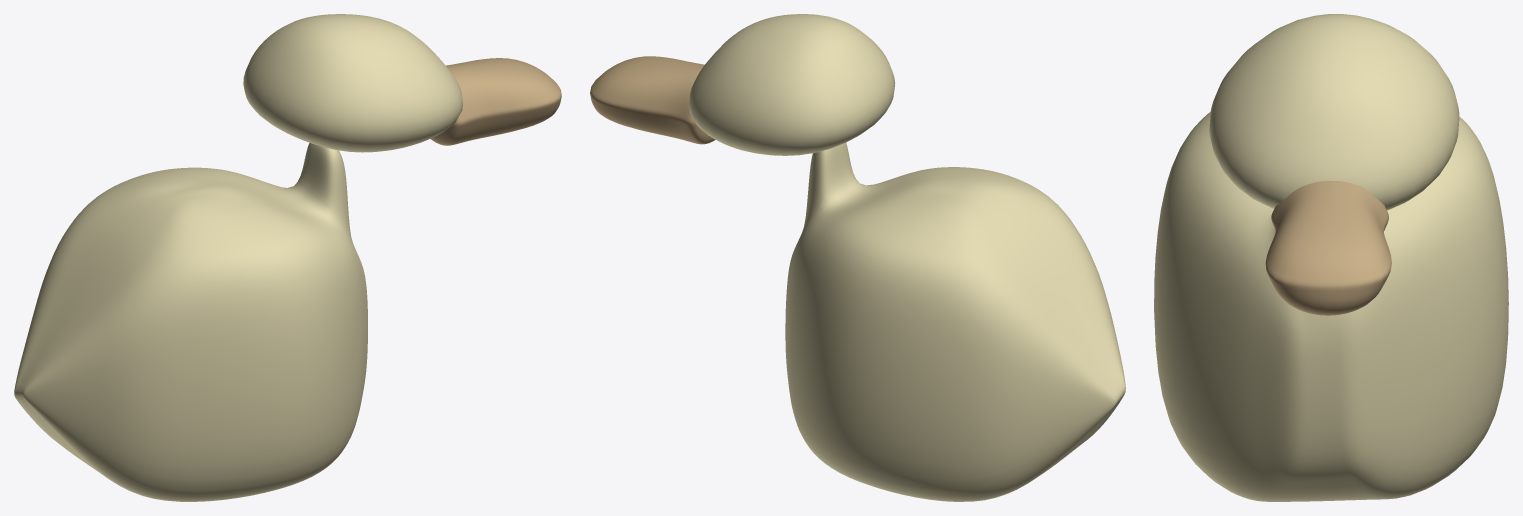
File: babyYellowDuck_noAnim.fbx
The picture shows the model from 3 angles, left to right: view 1: azimuth 30°, elevation 25°; view 2: azimuth 150°, elevation 25°; view 3: azimuth 270°, elevation 25°; orthographic projection. The views are drawn at different scales.
Visible parts, largest first — view 1: polySurface6; view 2: polySurface6; view 3: polySurface6.
Boxes of the visible parts, x1=… form: polySurface6: x1=14, y1=14, x2=561, y2=501; polySurface6: x1=590, y1=14, x2=1125, y2=501; polySurface6: x1=1154, y1=14, x2=1508, y2=501.
Bounding box in the file's own units: 5.06 × 3.72 × 2.36.
